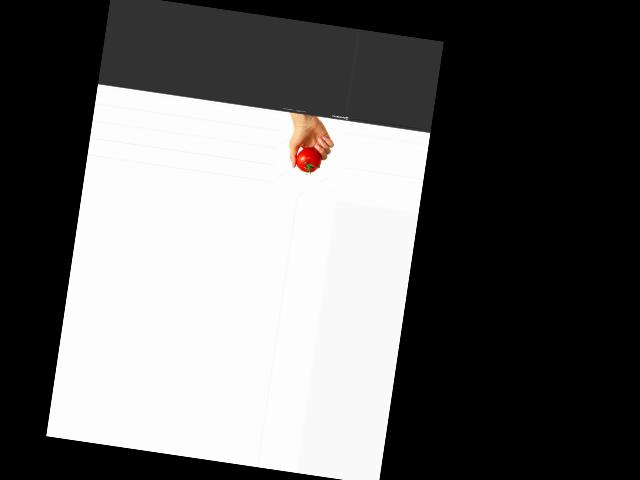tomato: (294, 145, 322, 174)
